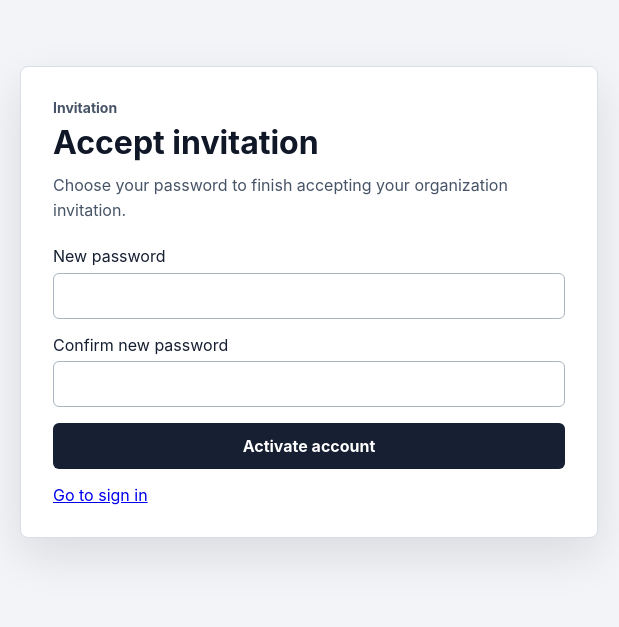
Test: validates password confirmation before submitting
The width and height of the screenshot is (619, 627).
Type "StrongPass123!" into the password field labelled "New password".
click(309, 296); type("StrongPass123!")  # box [53, 273, 565, 319]
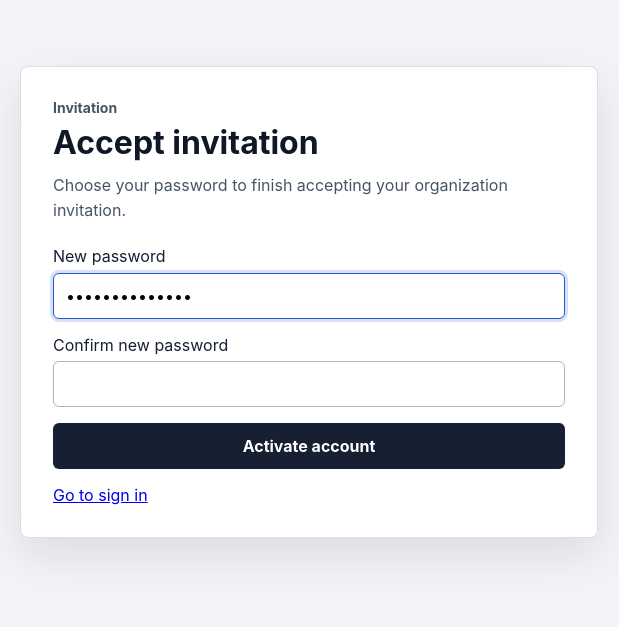
Type "Different123!" into the password field labelled "Confirm new password".
click(309, 384); type("Different123!")  # box [53, 361, 565, 407]
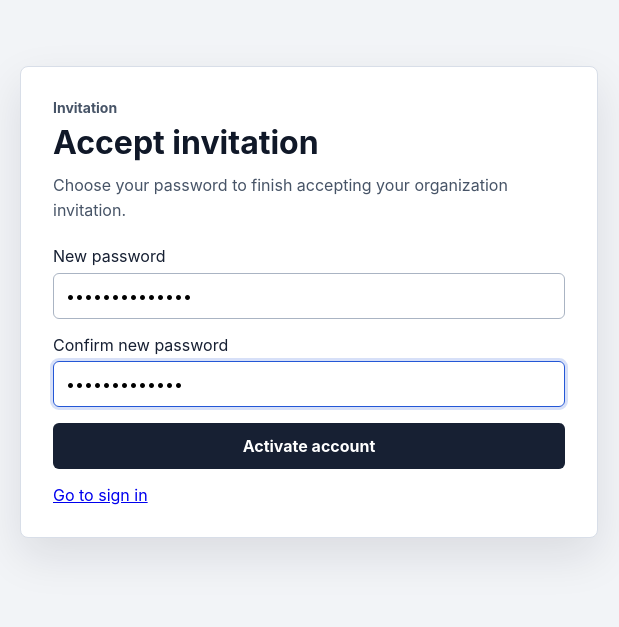
Click the button "Activate account".
click(309, 446)  # box [53, 423, 565, 469]
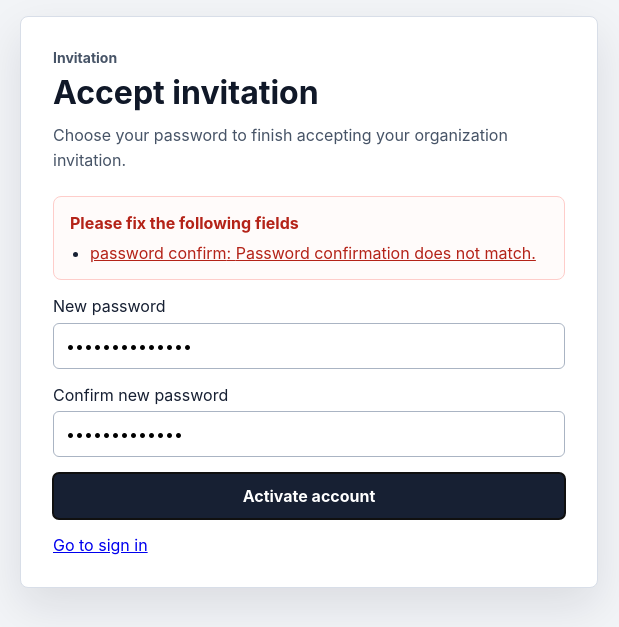
Now the message shows "Password confirmation does not match.", box [90, 243, 536, 263]
